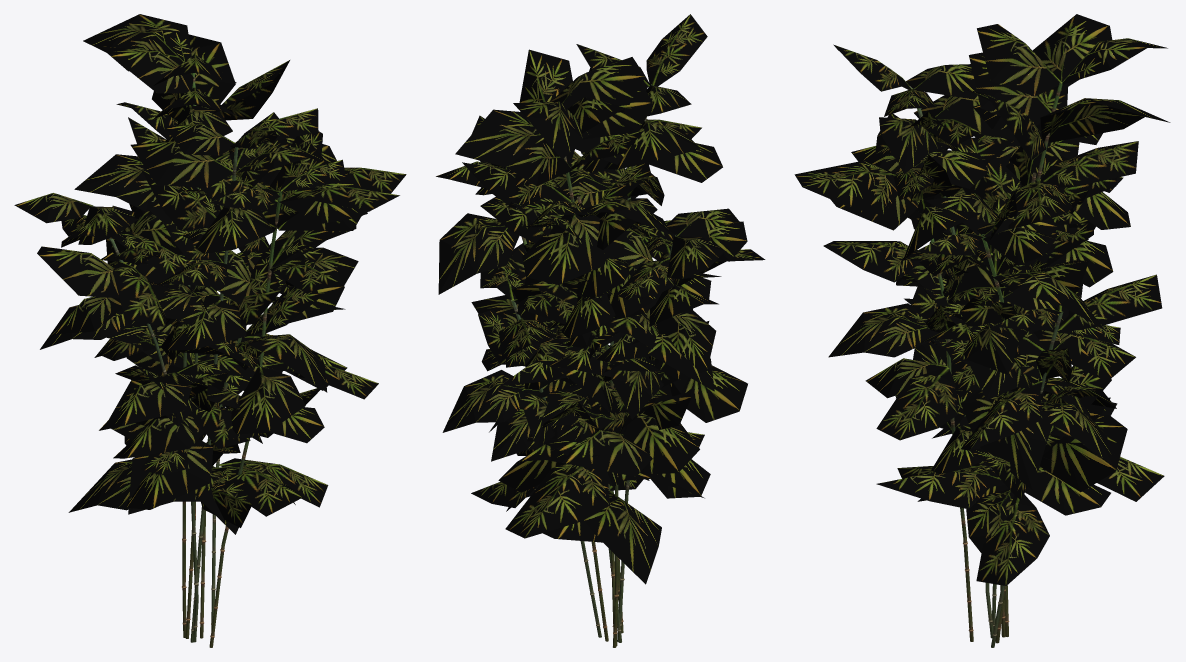
File: bg_anh_tree_te_t46_sm_old.FBX
3 renders of one model, left to right at view 1: azimuth 30°, elevation 25°; view 2: azimuth 150°, elevation 25°; view 3: azimuth 270°, elevation 25°, orthographic. The views are drawn at different scales.
Visible parts, largest first — view 1: bg_anh_tree_te_t46_sm_old; view 2: bg_anh_tree_te_t46_sm_old; view 3: bg_anh_tree_te_t46_sm_old.
Part boxes in pixels (x1,y1,x2,y2): bg_anh_tree_te_t46_sm_old: (14,14,406,647); bg_anh_tree_te_t46_sm_old: (436,14,765,647); bg_anh_tree_te_t46_sm_old: (794,14,1170,647).
Bounding box in the file's own units: 371 × 661 × 372.
